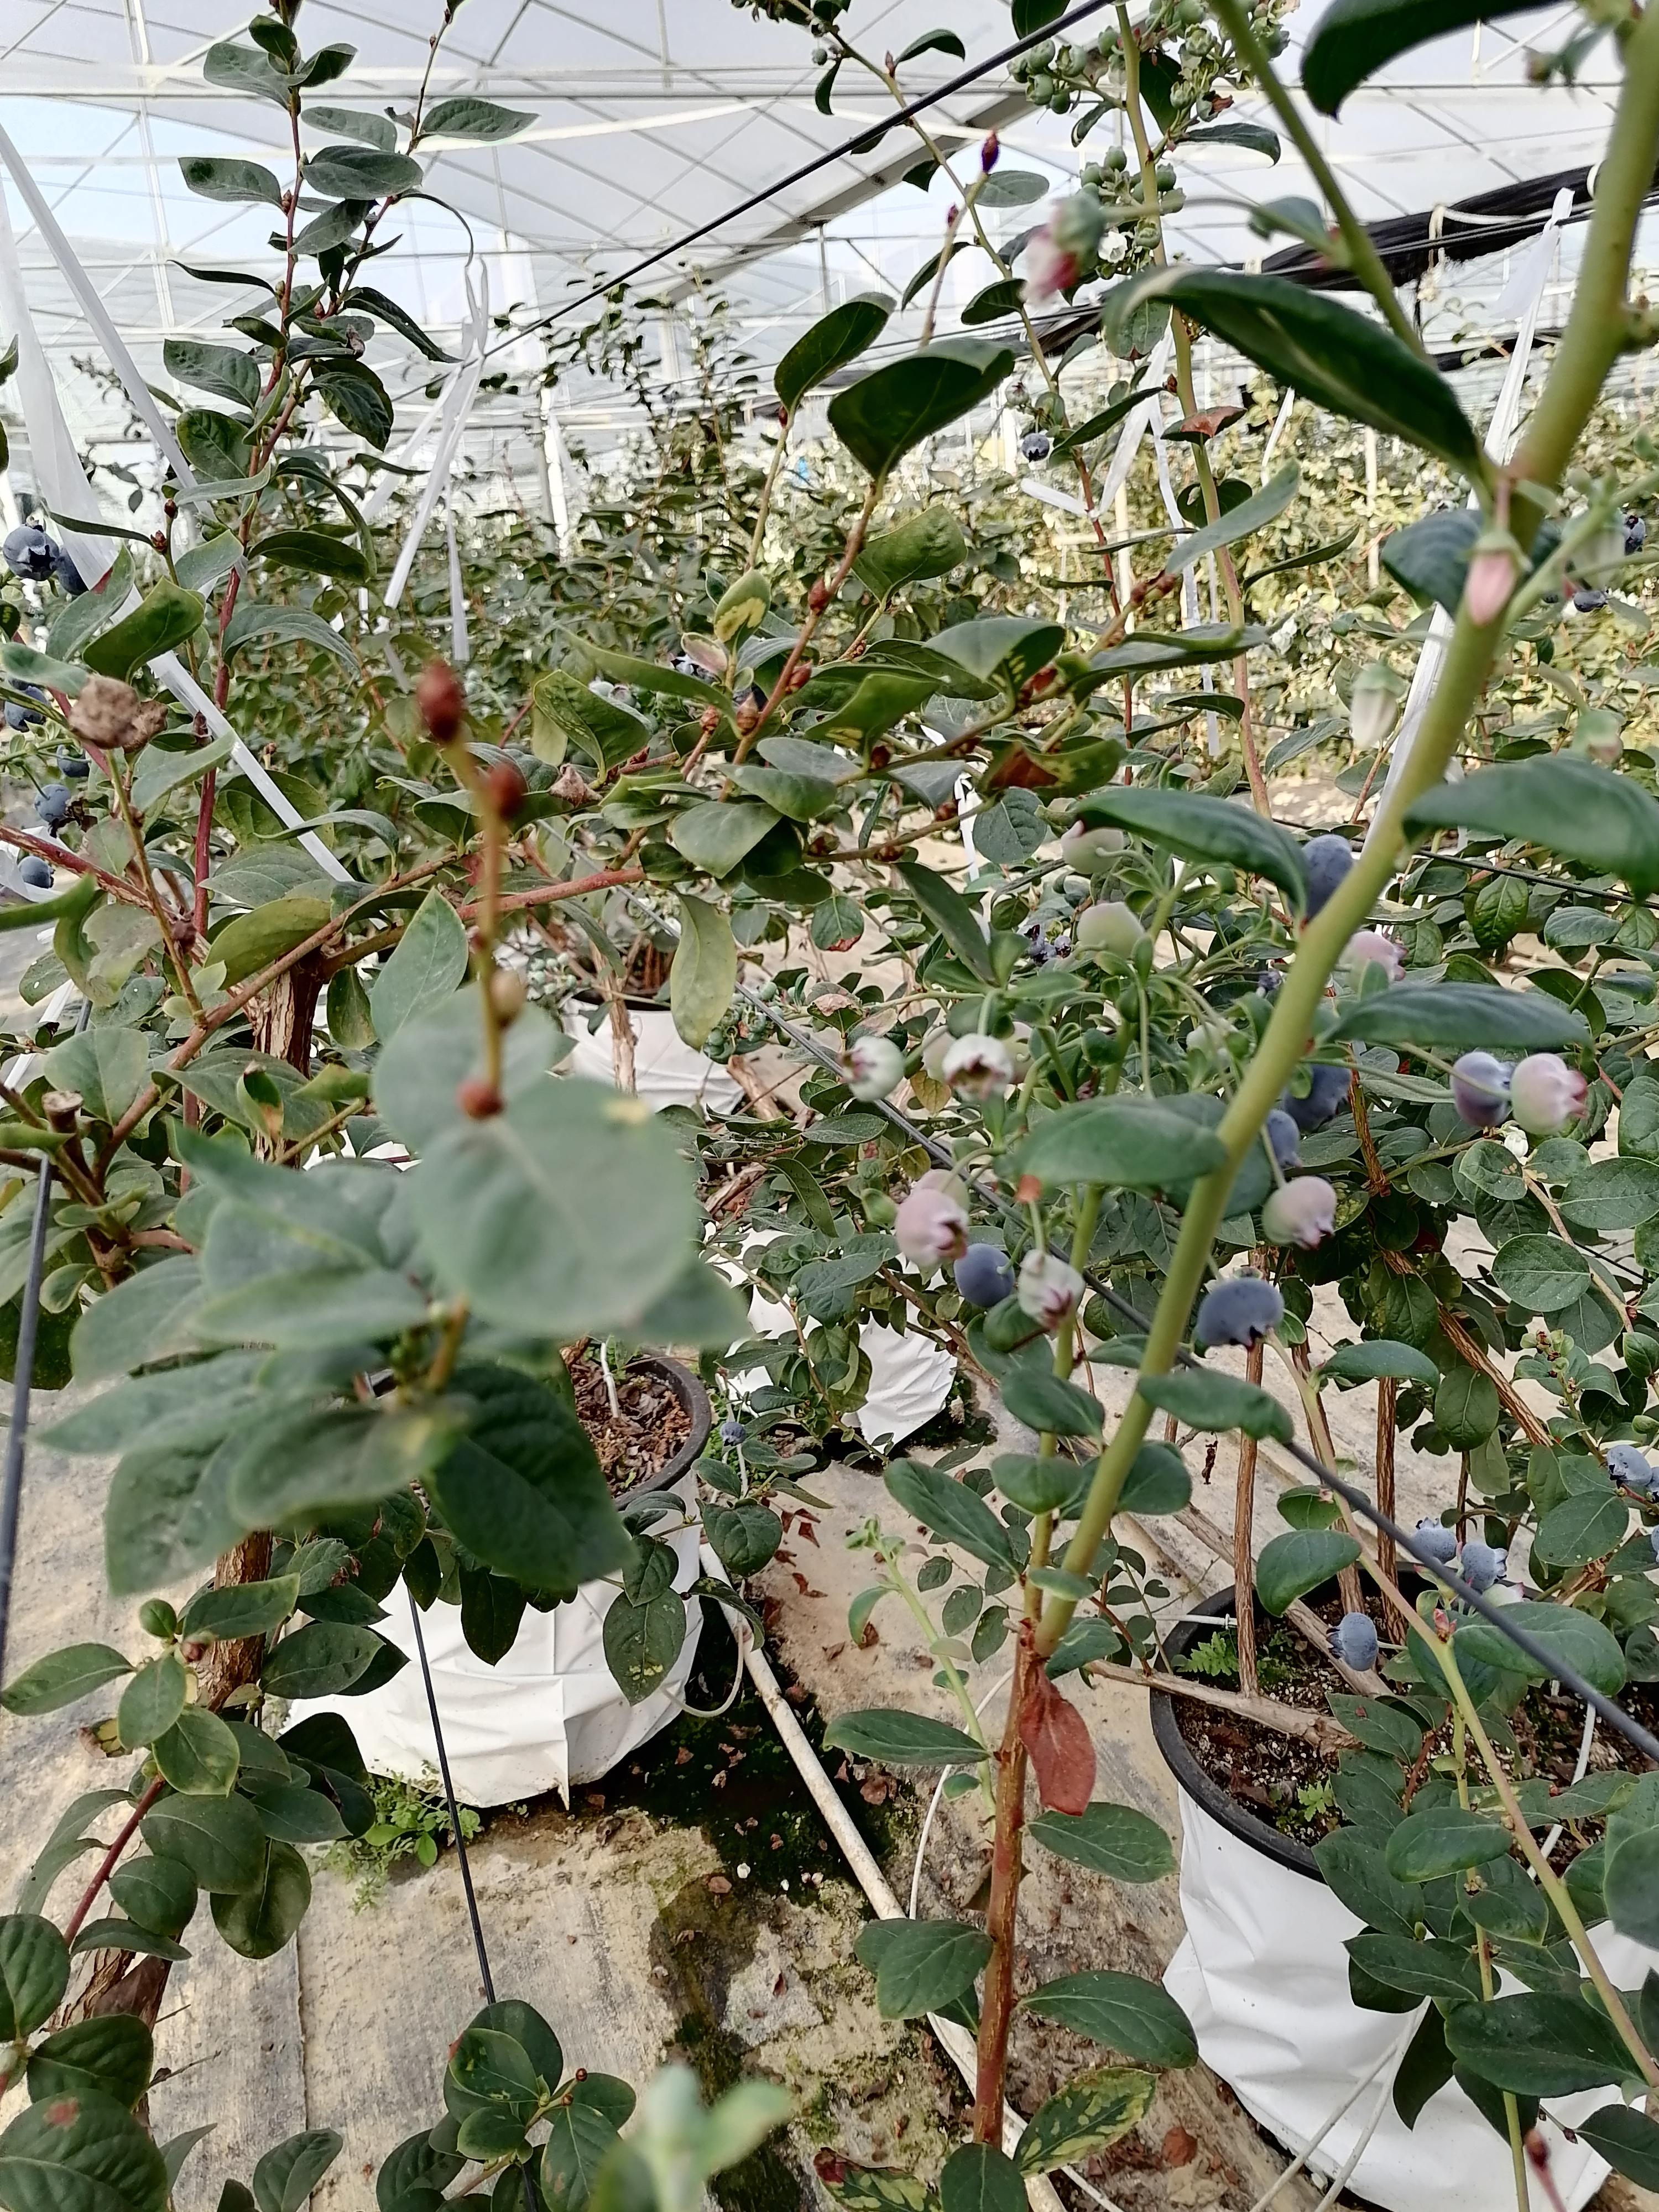ripe-blueberries: (1197, 1276, 1285, 1346), (1291, 833, 1355, 916), (1286, 1058, 1352, 1133), (954, 1243, 1015, 1308), (1328, 1613, 1379, 1671), (1411, 1516, 1458, 1564), (1461, 1541, 1507, 1590), (1608, 1444, 1652, 1486), (1269, 1107, 1300, 1165), (718, 1421, 745, 1447)
